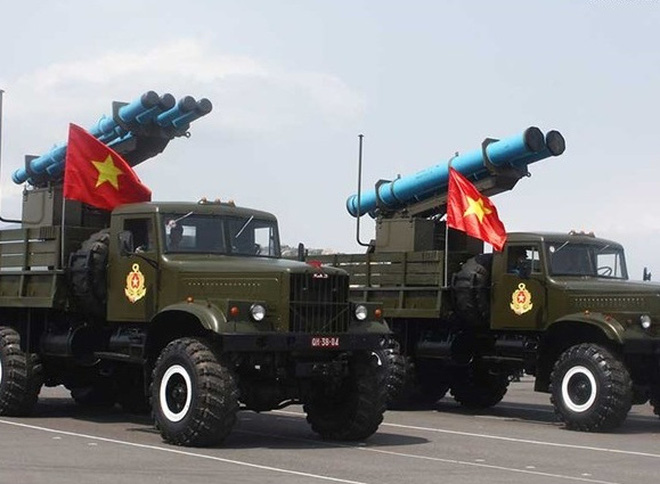plate: (311, 336, 343, 349)
